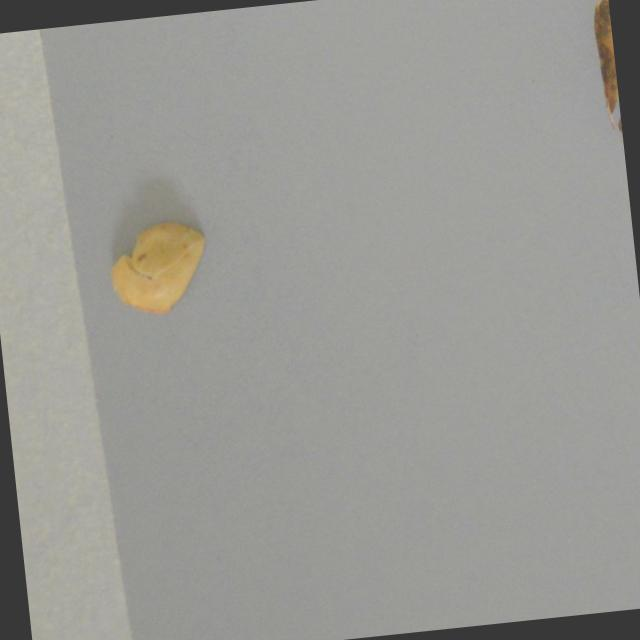cuerpos_extranos: (98, 207, 213, 318), (583, 0, 623, 144)
